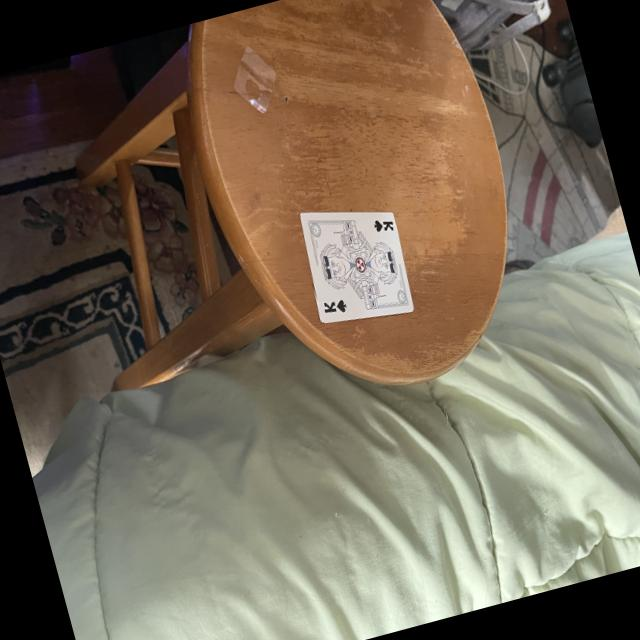King of spades: (301, 214, 411, 319)
